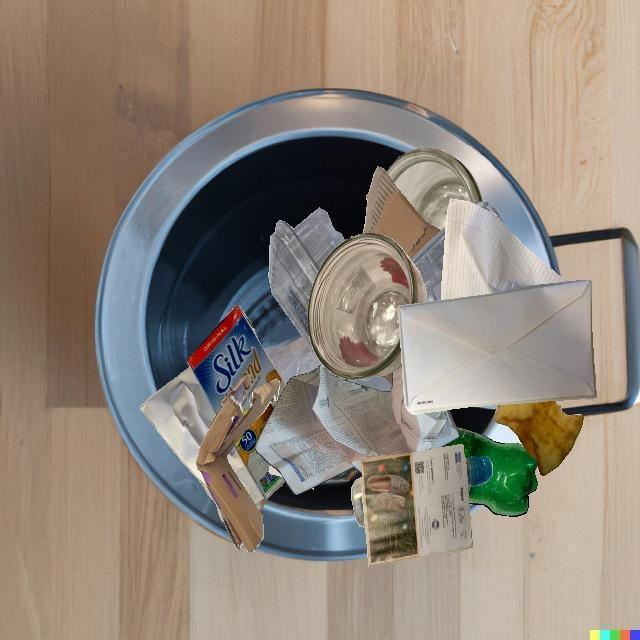biowaste: (494, 401, 584, 476)
cardboard: (187, 305, 286, 500), (196, 374, 280, 552), (363, 166, 441, 260)
glass: (308, 233, 427, 380), (386, 147, 484, 230)
paper: (398, 280, 596, 414), (255, 365, 447, 495), (361, 444, 472, 566), (441, 198, 566, 300), (141, 366, 223, 521), (378, 388, 491, 419), (429, 416, 459, 450), (269, 465, 284, 479)
plastic: (269, 207, 327, 365), (441, 427, 538, 517), (323, 248, 367, 378), (410, 226, 446, 302), (466, 456, 493, 494), (351, 477, 365, 527)
